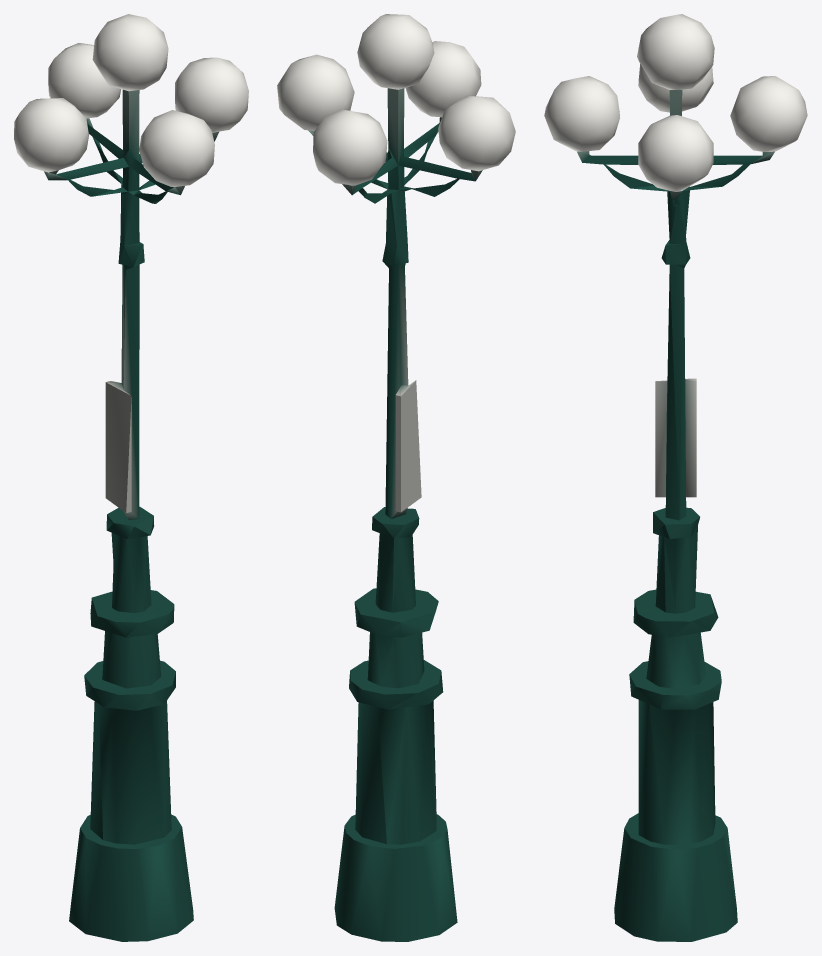
Rendered from den_cot_den_cau_xanh.mid.glb.
3 renders of one model, left to right at view 1: azimuth 30°, elevation 25°; view 2: azimuth 150°, elevation 25°; view 3: azimuth 270°, elevation 25°, orthographic.
Visible parts, largest first — view 1: den_cong_vien; view 2: den_cong_vien; view 3: den_cong_vien.
Boxes of the visible parts, box(x1,y1,x2,y2) form: den_cong_vien: box(14, 14, 248, 941); den_cong_vien: box(277, 14, 515, 941); den_cong_vien: box(544, 14, 807, 941).
Size of the model in its own units: 1.27 by 4.8 by 1.27.
